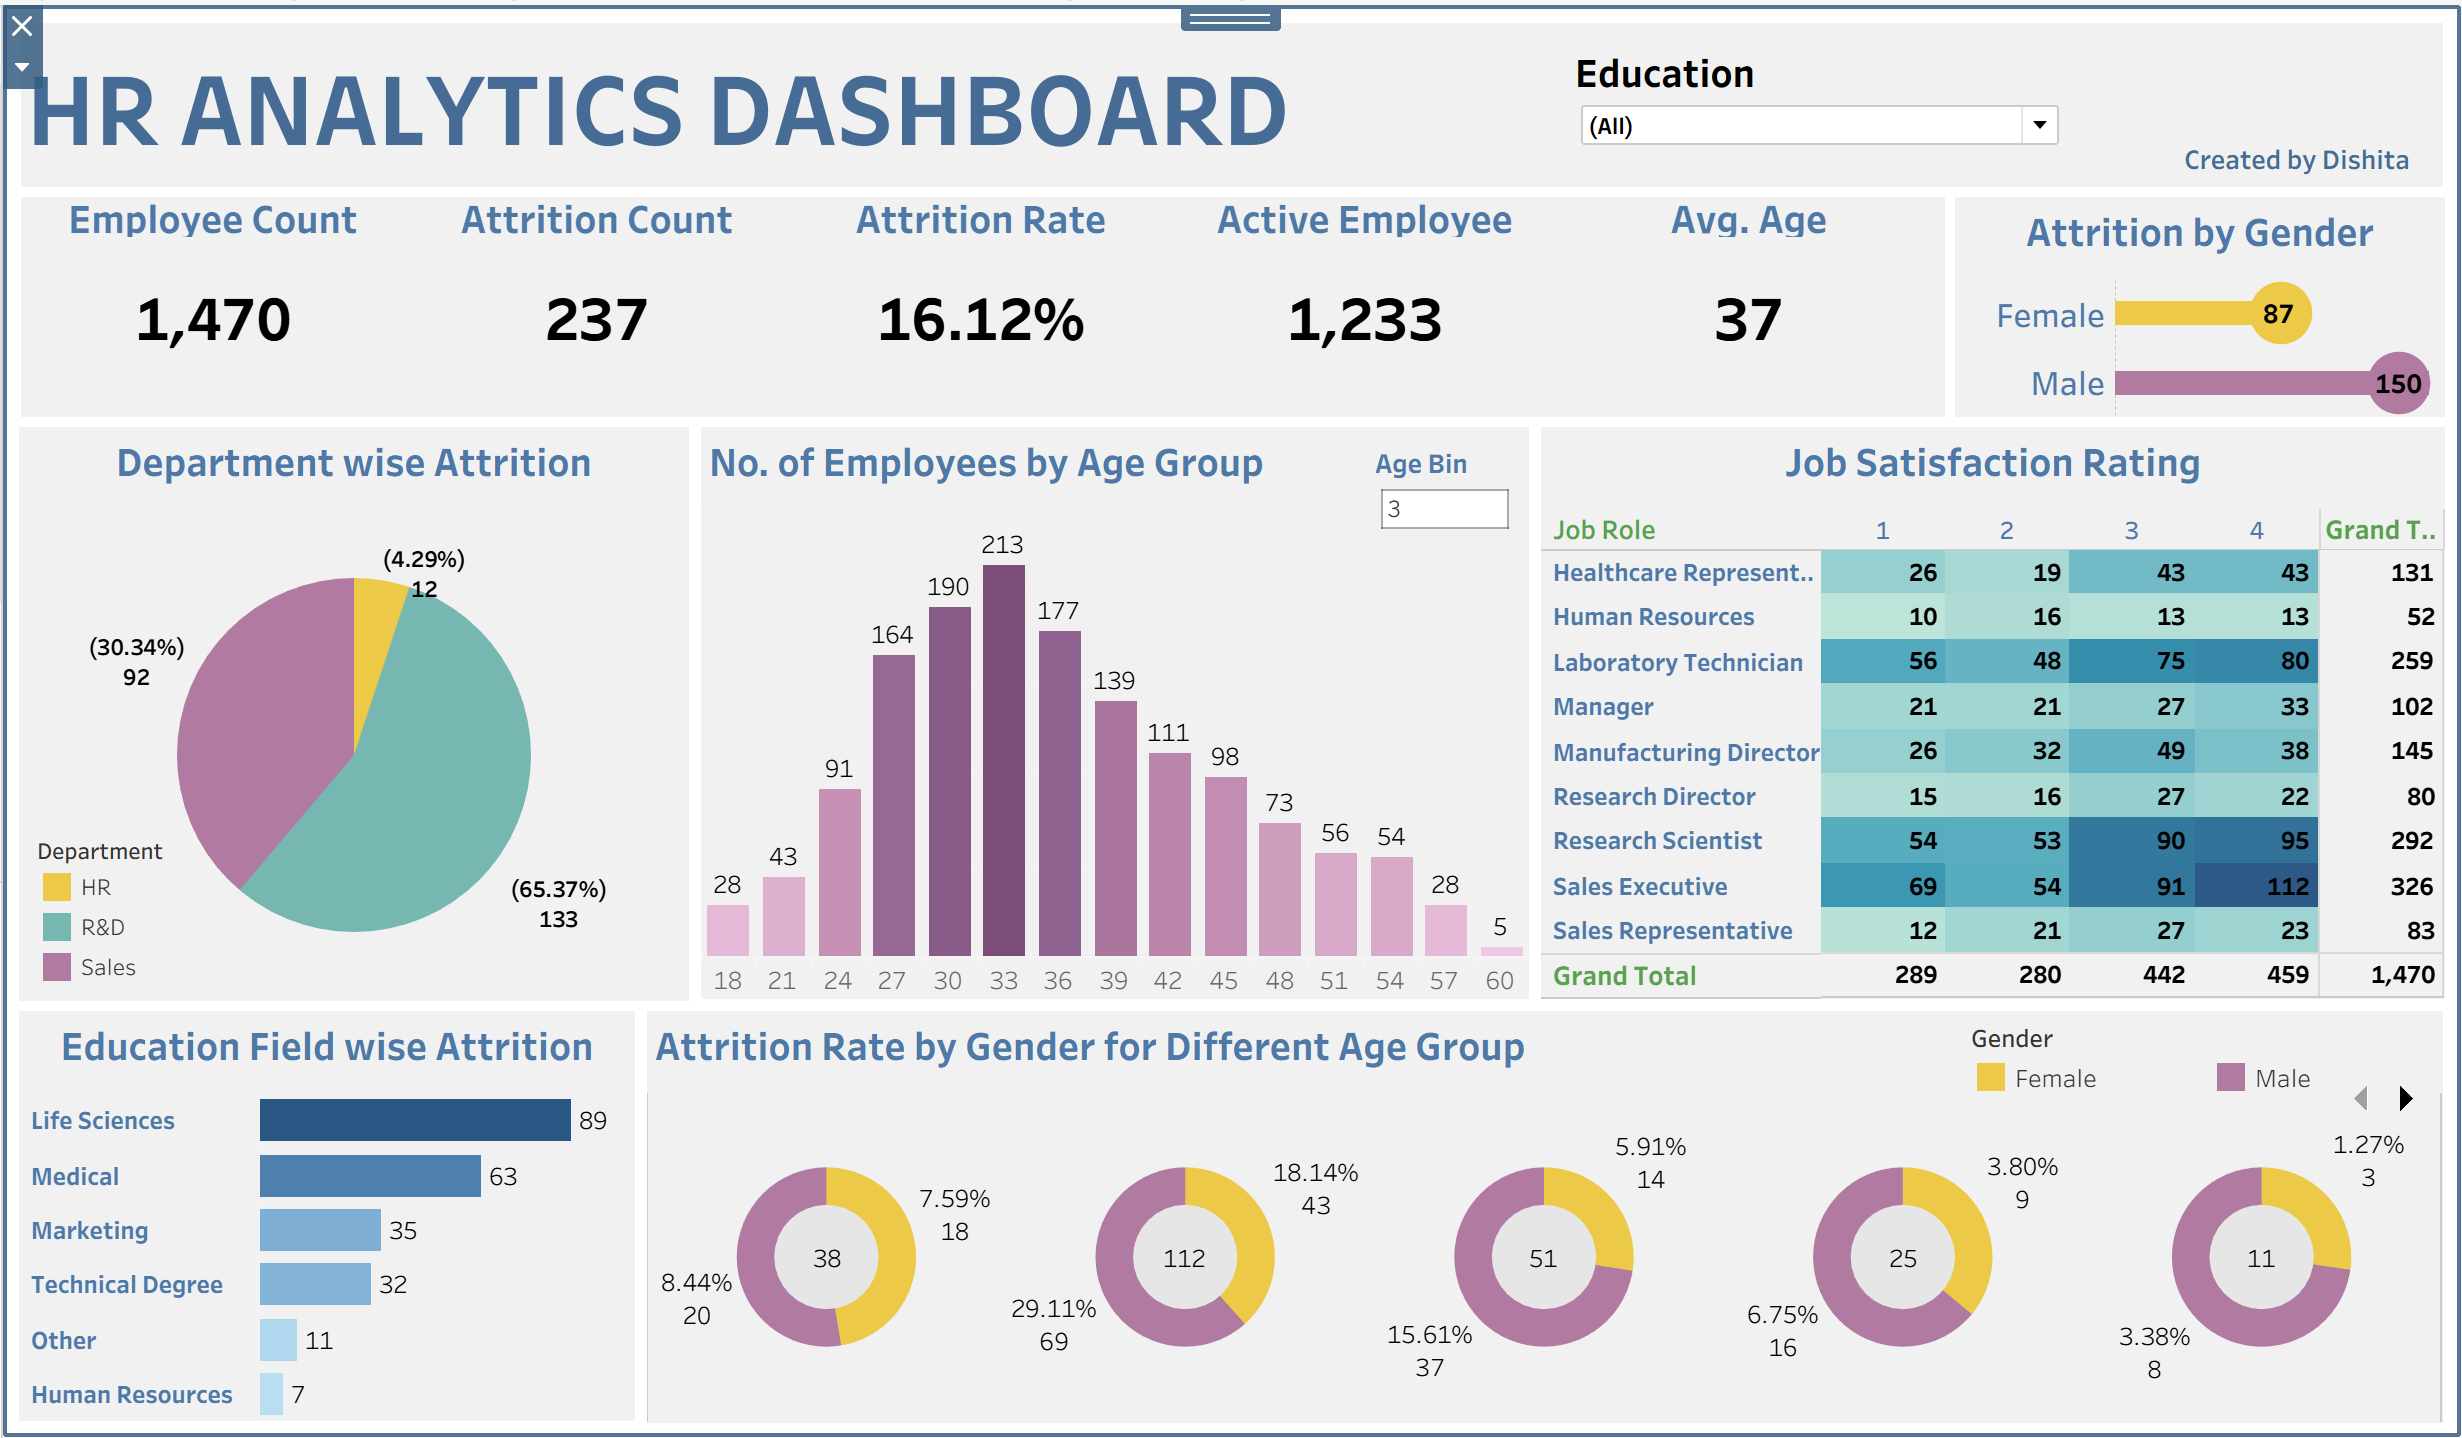

The page's visual inventory and layout, read from the dashboard file:
{"tool":"tableau","page":{"name":"Dashboard","canvas":[1000,1000],"units":"permille","ordinal":0},"visuals":[{"type":"text","box":[6.5,11.2,987,977.7]},{"type":"text","box":[7.3,12.6,985.4,111.7]},{"type":"filter","title":"KPI","param":"[federated.0q7a9yh1a6z6hj1d7ccl40xpww77].[none:Education:nk]","box":[639.5,27.9,199.3,89.4]},{"type":"text","box":[885.3,83.8,96.8,33.5]},{"type":"worksheet","title":"KPI","mark":"Automatic","box":[7.3,134.1,782.8,150.8]},{"type":"worksheet","title":"Attrition by Gender","mark":"Circle","rows":["Gender"],"cols":["Calculation_1443122265583951873","Calculation_1443122265583951873"],"box":[796.6,134.1,196.9,150.8]},{"type":"worksheet","title":"Department wise Attrition","mark":"Pie","box":[6.5,294.7,272.6,400.8]},{"type":"worksheet","title":"No of Emp by Age Group","mark":"Bar","rows":["Employee Count"],"cols":["Age (bin)"],"box":[284,294.7,336.9,399.4]},{"type":"worksheet","title":"Job Satisfaction Rating","mark":"Square","rows":["Job Role"],"cols":["Job Satisfaction"],"box":[625.7,294.7,367.8,398]},{"type":"parameter","param":"[Parameters].[Parameter 1]","box":[558.2,307.3,57,62.9]},{"type":"legend","title":"Department wise Attrition","param":"[federated.0q7a9yh1a6z6hj1d7ccl40xpww77].[none:Department:nk]","box":[13.8,579.6,113.9,108.9]},{"type":"worksheet","title":"Education Field wise Attrition","mark":"Automatic","rows":["Education Field"],"cols":["Calculation_1443122265583951873"],"box":[6.5,702.5,250.6,286.3]},{"type":"worksheet","title":"Attrition Rate by Gender","mark":"Pie","rows":["Calculation_1031390928994310","Calculation_1031390929109000"],"cols":["CF_age band"],"box":[262,702.5,730.7,287.7]},{"type":"legend","title":"Attrition Rate by Gender","param":"[federated.0q7a9yh1a6z6hj1d7ccl40xpww77].[none:Gender:nk]","box":[800.6,709.5,187.1,81]}]}

Visuals, with their boxes on the dashboard's canvas, which has no fixed pixel size, in thousandths of its width and height (x1, y1, x2, y2). These are canvas units, not pixel positions in the 2462x1438 screenshot, which may show the page scaled, cropped or inside an application window:
text: region(6, 11, 994, 989)
text: region(7, 13, 993, 124)
"KPI" filter: region(640, 28, 839, 117)
text: region(885, 84, 982, 117)
"KPI" worksheet: region(7, 134, 790, 285)
"Attrition by Gender" worksheet (Circle marks): region(797, 134, 994, 285)
"Department wise Attrition" worksheet (Pie marks): region(6, 295, 279, 696)
"No of Emp by Age Group" worksheet (Bar marks): region(284, 295, 621, 694)
"Job Satisfaction Rating" worksheet (Square marks): region(626, 295, 994, 693)
parameter: region(558, 307, 615, 370)
"Department wise Attrition" legend: region(14, 580, 128, 688)
"Education Field wise Attrition" worksheet: region(6, 702, 257, 989)
"Attrition Rate by Gender" worksheet (Pie marks): region(262, 702, 993, 990)
"Attrition Rate by Gender" legend: region(801, 710, 988, 790)
